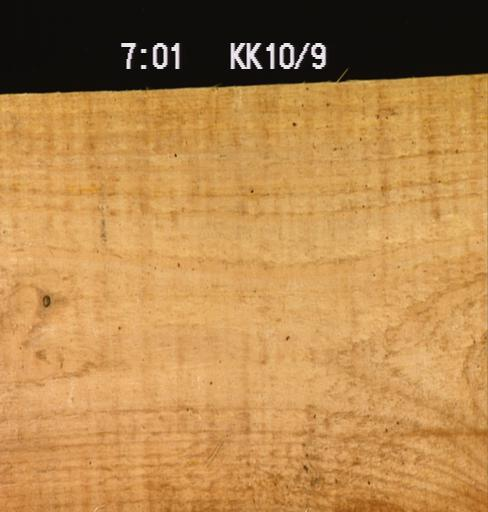dry_knot: (40, 292, 50, 307)
